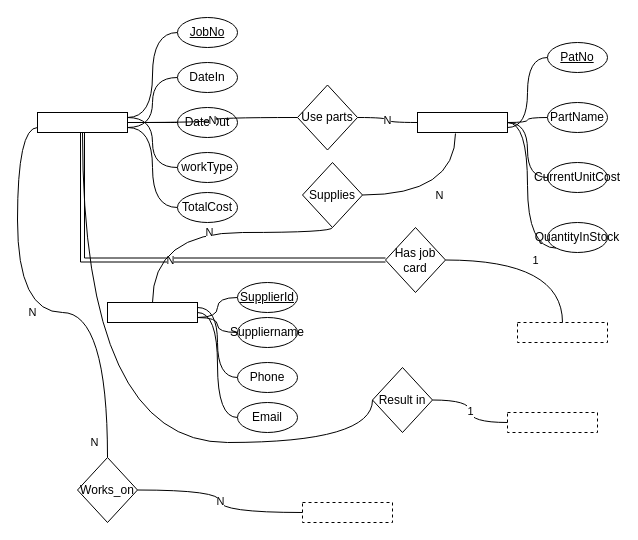
This 638x540 diagram has some shape labels left out. Here are the shapes that lost their labels. From the top down, the box of each, then its label:
(36, 112, 128, 132): JobCards
(416, 112, 508, 132): Part
(106, 302, 198, 322): Suppliers
(516, 322, 608, 342): Vehicle
(506, 412, 598, 432): Damge_Report
(302, 502, 392, 522): Mechanic
